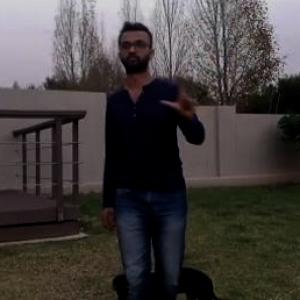land_hand: (158, 68, 204, 118)
